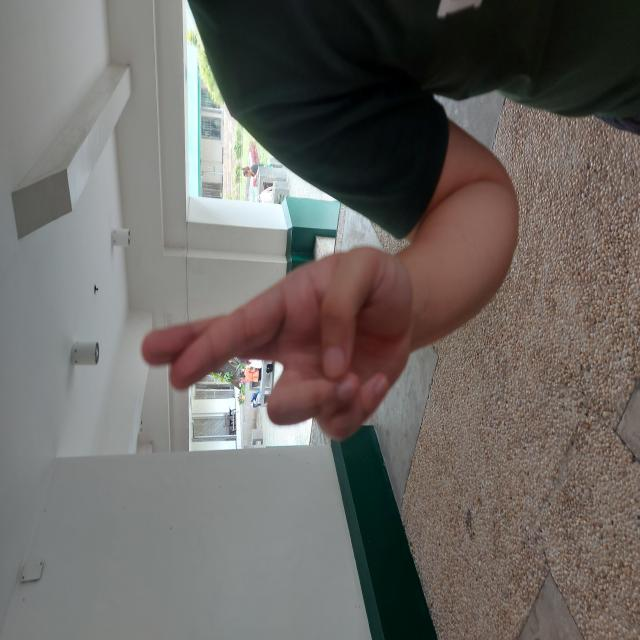R: (197, 138, 397, 416)
